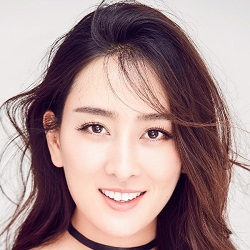unmask: (56, 94, 185, 239)
